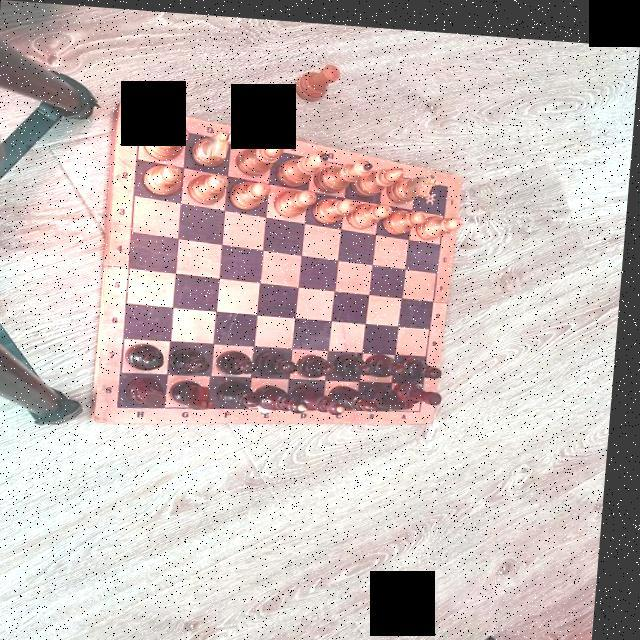chess-table-corners: (137, 117, 147, 126), (120, 400, 129, 410), (444, 176, 454, 183), (422, 402, 429, 406)
